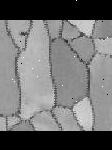good_void: (19, 29, 30, 36)
